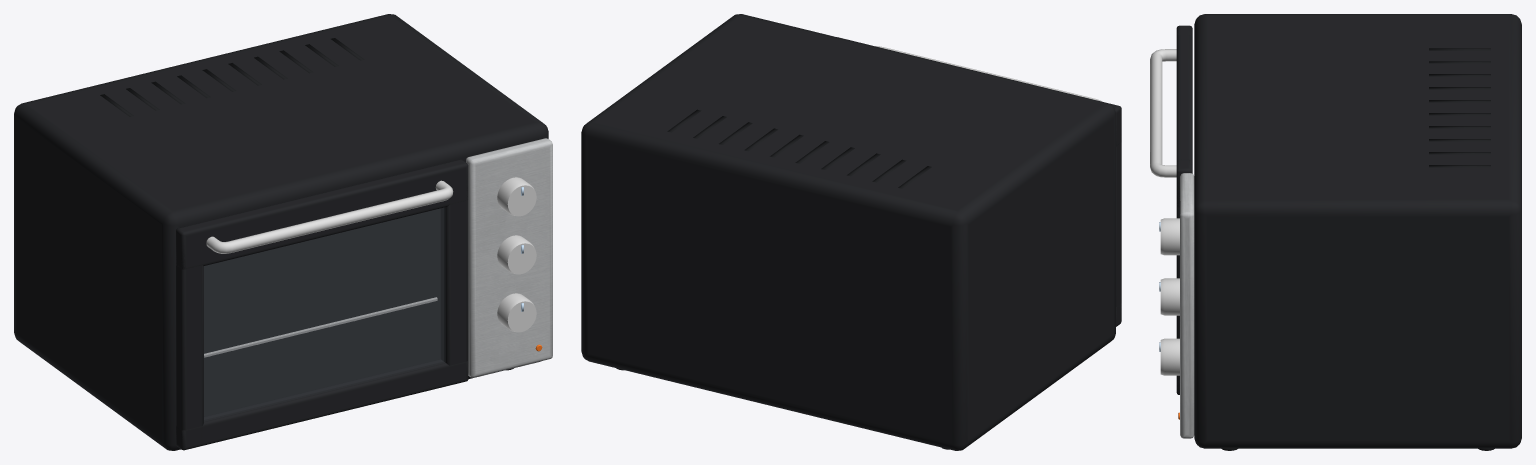
Rendered from horno_sobremesa_35l.glb.
3 renders of one model, left to right at view 1: azimuth 30°, elevation 25°; view 2: azimuth 150°, elevation 25°; view 3: azimuth 270°, elevation 25°, orthographic. The views are drawn at different scales.
Parts seen in each view (by area): view 1: horno_sobremesa_35l; view 2: horno_sobremesa_35l; view 3: horno_sobremesa_35l.
Boxes of the visible parts, x1=… form: horno_sobremesa_35l: x1=14, y1=14, x2=552, y2=450; horno_sobremesa_35l: x1=581, y1=14, x2=1121, y2=450; horno_sobremesa_35l: x1=1150, y1=14, x2=1521, y2=450.
Bounding box in the file's own units: 0.52 × 0.3201 × 0.42.
Materials: 8 (1 with a texture image).
